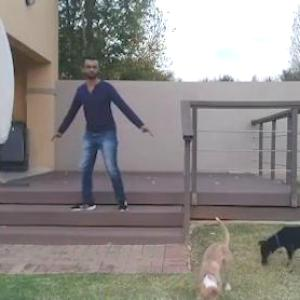land: (61, 56, 136, 222)
